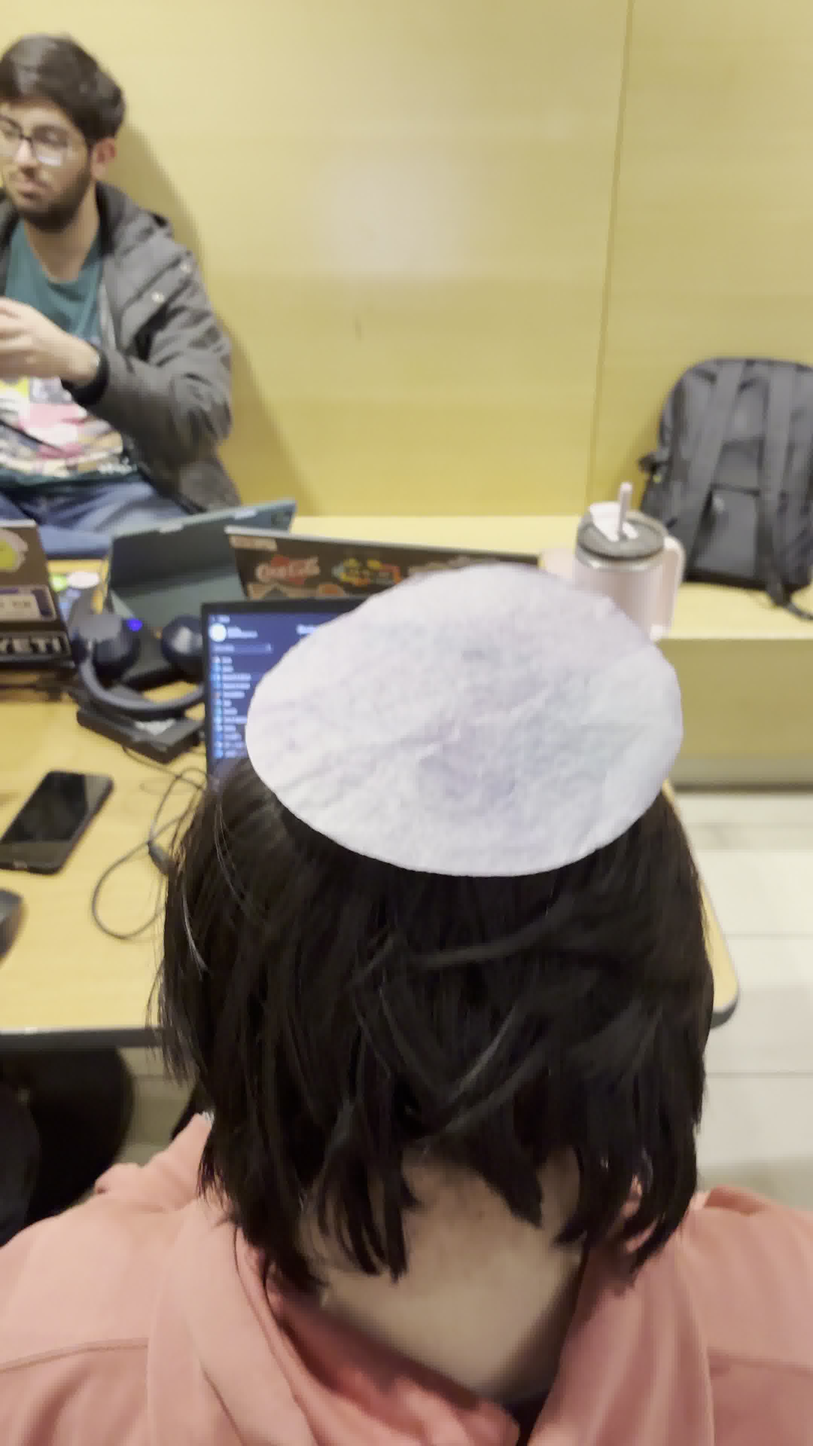Target: (246, 557, 684, 876)
